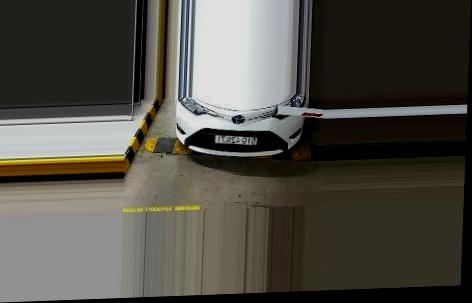License_Plate: (212, 131, 260, 147)
